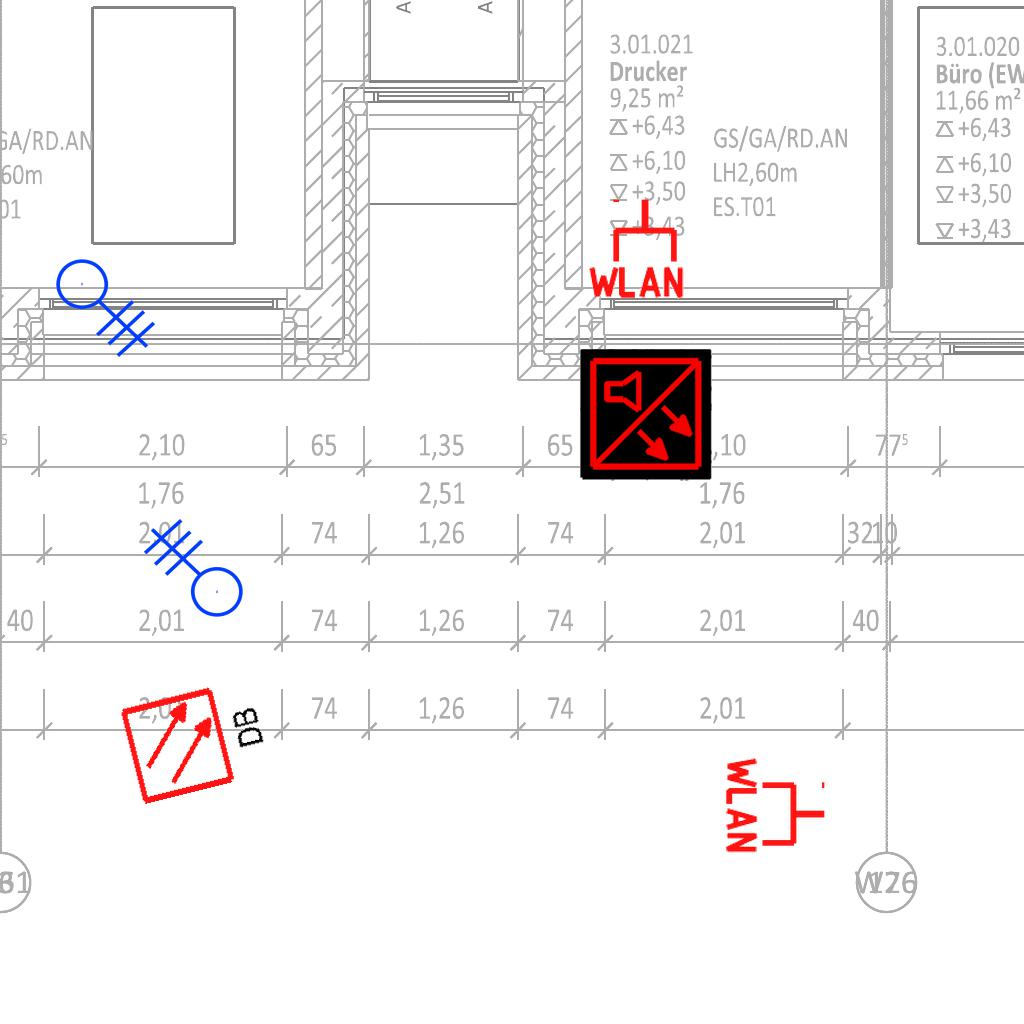DB_Melder_in_Doppelboden_mit_Revisionsoeffnung_mind_40_x_40_cm: (110, 666, 284, 813)
Elektroanschluss_allgemein_400V_Geraeteanschlussdose_400V: (131, 518, 244, 634), (55, 242, 168, 358)
OKW_Multisensormelder_(Kombination_optischer_Rauch-Kahlenmonoxid_Waerme-Melder): (580, 349, 712, 481)
WLAN: (724, 753, 829, 857), (584, 195, 688, 300)
